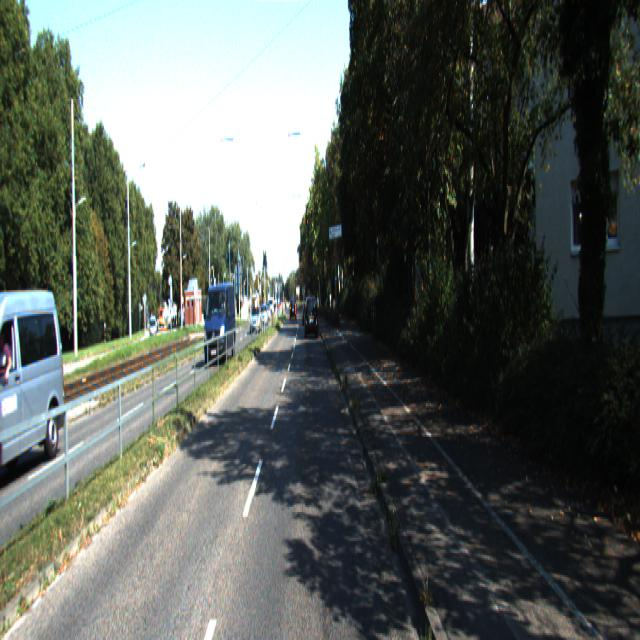Car: (0, 289, 68, 496), (205, 279, 236, 366), (305, 296, 319, 341)
